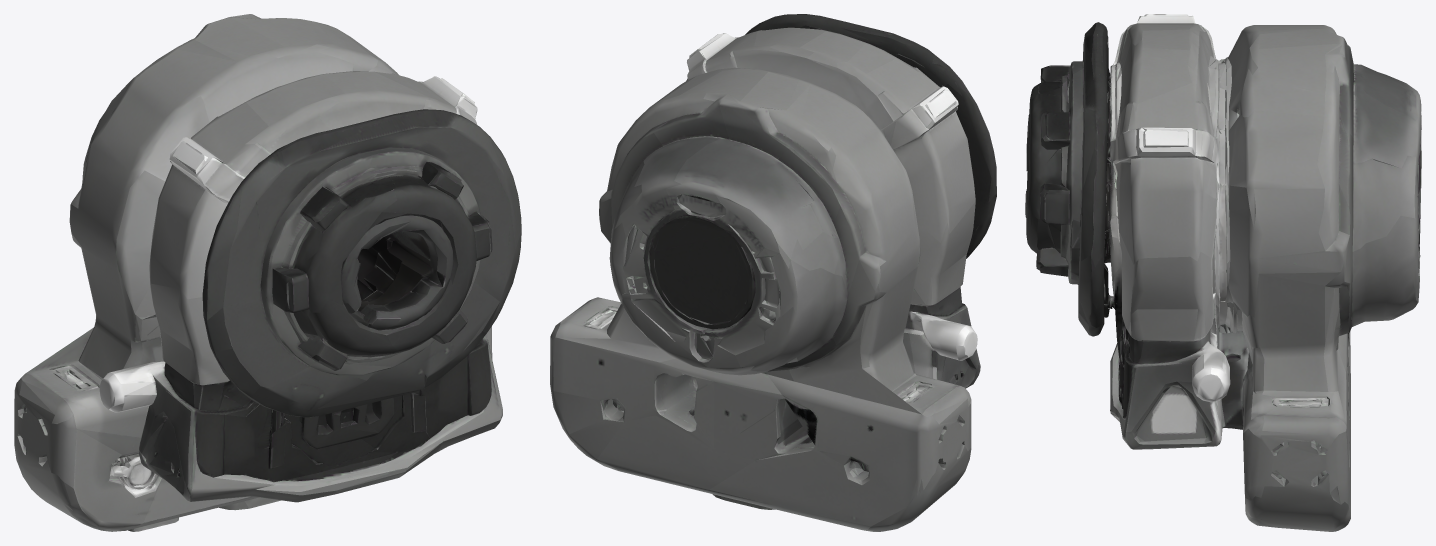
Rendered from tps-sensor.glb.
The picture shows the model from 3 angles, left to right: view 1: azimuth 30°, elevation 25°; view 2: azimuth 150°, elevation 25°; view 3: azimuth 270°, elevation 25°; orthographic projection. The views are drawn at different scales.
Bounding box in the file's own units: 1.9 × 1.9 × 1.62.
Materials: 1 (1 with a texture image).
